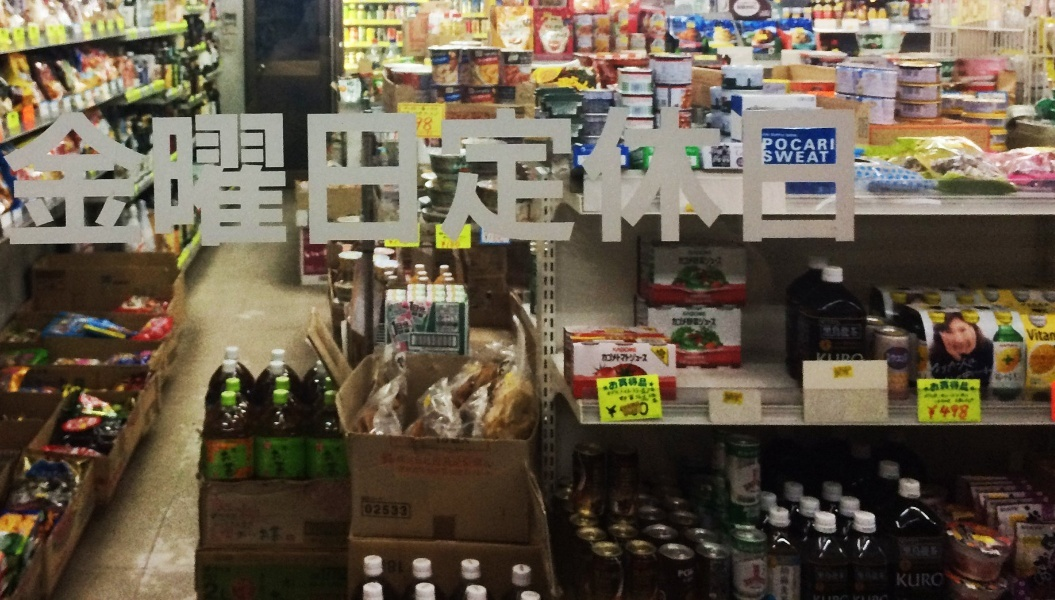text: (17, 105, 32, 248), (33, 105, 48, 248), (49, 105, 64, 248), (65, 105, 80, 248), (81, 105, 96, 248), (97, 105, 112, 248), (113, 105, 128, 248), (129, 105, 144, 248), (145, 105, 160, 248), (161, 105, 176, 248), (177, 105, 192, 248), (193, 105, 208, 248), (209, 105, 224, 248), (225, 105, 240, 248), (241, 105, 256, 248), (257, 105, 272, 248), (273, 105, 288, 248), (289, 105, 304, 248), (305, 105, 320, 248), (321, 105, 336, 248), (337, 105, 352, 248), (353, 105, 368, 248), (369, 105, 384, 248), (385, 105, 400, 248), (401, 105, 416, 248), (417, 105, 432, 248), (433, 105, 448, 248), (449, 105, 464, 248), (465, 105, 480, 248), (481, 105, 496, 248), (497, 105, 512, 248), (513, 105, 528, 248), (529, 105, 544, 248), (545, 105, 560, 248), (561, 105, 576, 248), (577, 105, 592, 248), (593, 105, 608, 248), (609, 105, 624, 248), (625, 105, 640, 248), (641, 105, 656, 248), (657, 105, 672, 248), (673, 105, 688, 248), (689, 105, 704, 248), (705, 105, 720, 248), (721, 105, 736, 248), (737, 105, 752, 248), (753, 105, 768, 248), (769, 105, 784, 248), (785, 105, 800, 248), (801, 105, 816, 248), (817, 105, 832, 248), (833, 105, 848, 248), (6, 105, 16, 248), (849, 105, 857, 248), (1041, 533, 1055, 586), (273, 446, 288, 478), (977, 355, 993, 382), (322, 448, 336, 478), (929, 355, 944, 382), (945, 355, 960, 382), (961, 355, 976, 382), (225, 447, 237, 479), (401, 455, 416, 478), (417, 455, 432, 478), (433, 455, 448, 478), (449, 455, 464, 478), (465, 455, 480, 478), (481, 455, 495, 478), (609, 387, 624, 402), (625, 387, 640, 402), (417, 118, 432, 132), (609, 376, 624, 390), (625, 376, 640, 390), (929, 405, 944, 419), (945, 405, 960, 419), (897, 573, 912, 587), (913, 573, 928, 587), (929, 573, 943, 587), (769, 138, 784, 151), (785, 138, 800, 151), (801, 138, 816, 151), (817, 138, 832, 151), (387, 561, 400, 576), (769, 151, 784, 163), (785, 151, 800, 163), (801, 151, 816, 163), (929, 392, 944, 404), (945, 392, 960, 404), (369, 505, 384, 517), (385, 505, 400, 517), (209, 584, 220, 600), (1041, 329, 1055, 341), (401, 106, 416, 117), (417, 106, 432, 117), (833, 326, 848, 337), (913, 546, 928, 557), (779, 567, 784, 600), (785, 567, 790, 600), (1037, 533, 1040, 586), (961, 392, 974, 404), (1027, 329, 1040, 341), (929, 382, 944, 392), (945, 382, 960, 392), (817, 151, 829, 163), (818, 572, 832, 581), (677, 568, 688, 579), (609, 354, 624, 362), (625, 354, 640, 362), (673, 318, 688, 326), (689, 318, 704, 326), (641, 387, 649, 402), (817, 352, 832, 360), (833, 352, 848, 360), (849, 352, 864, 360), (337, 448, 341, 478), (961, 405, 969, 419), (885, 353, 896, 363), (833, 572, 845, 581), (689, 257, 704, 264), (705, 257, 720, 264), (609, 406, 617, 419), (897, 353, 907, 363), (823, 326, 832, 337), (903, 546, 912, 557), (929, 546, 938, 557), (401, 321, 410, 332), (202, 584, 208, 600), (396, 455, 400, 478), (641, 403, 648, 416), (689, 311, 704, 317), (961, 382, 970, 392), (417, 305, 427, 314), (705, 318, 716, 326), (849, 326, 857, 337), (449, 241, 461, 248), (641, 376, 647, 390), (689, 250, 704, 255), (865, 595, 880, 600), (401, 505, 407, 517), (689, 568, 695, 579), (763, 138, 768, 151), (833, 595, 849, 599), (222, 447, 224, 479), (679, 257, 688, 264), (817, 595, 832, 599), (601, 354, 608, 362), (433, 106, 438, 117), (853, 595, 864, 600), (395, 321, 400, 332), (926, 355, 928, 382), (441, 241, 448, 248), (764, 151, 768, 163), (641, 354, 647, 362), (924, 392, 928, 404), (681, 311, 688, 317), (365, 505, 368, 517), (705, 250, 712, 255), (881, 595, 888, 600), (271, 446, 272, 478), (606, 387, 608, 402), (401, 561, 403, 576), (999, 344, 1008, 347), (1009, 344, 1018, 347), (606, 406, 608, 419), (414, 305, 416, 314), (927, 405, 928, 419), (833, 138, 834, 151), (639, 403, 640, 416), (813, 595, 816, 599), (671, 318, 672, 326), (721, 257, 722, 264), (705, 311, 706, 317)
